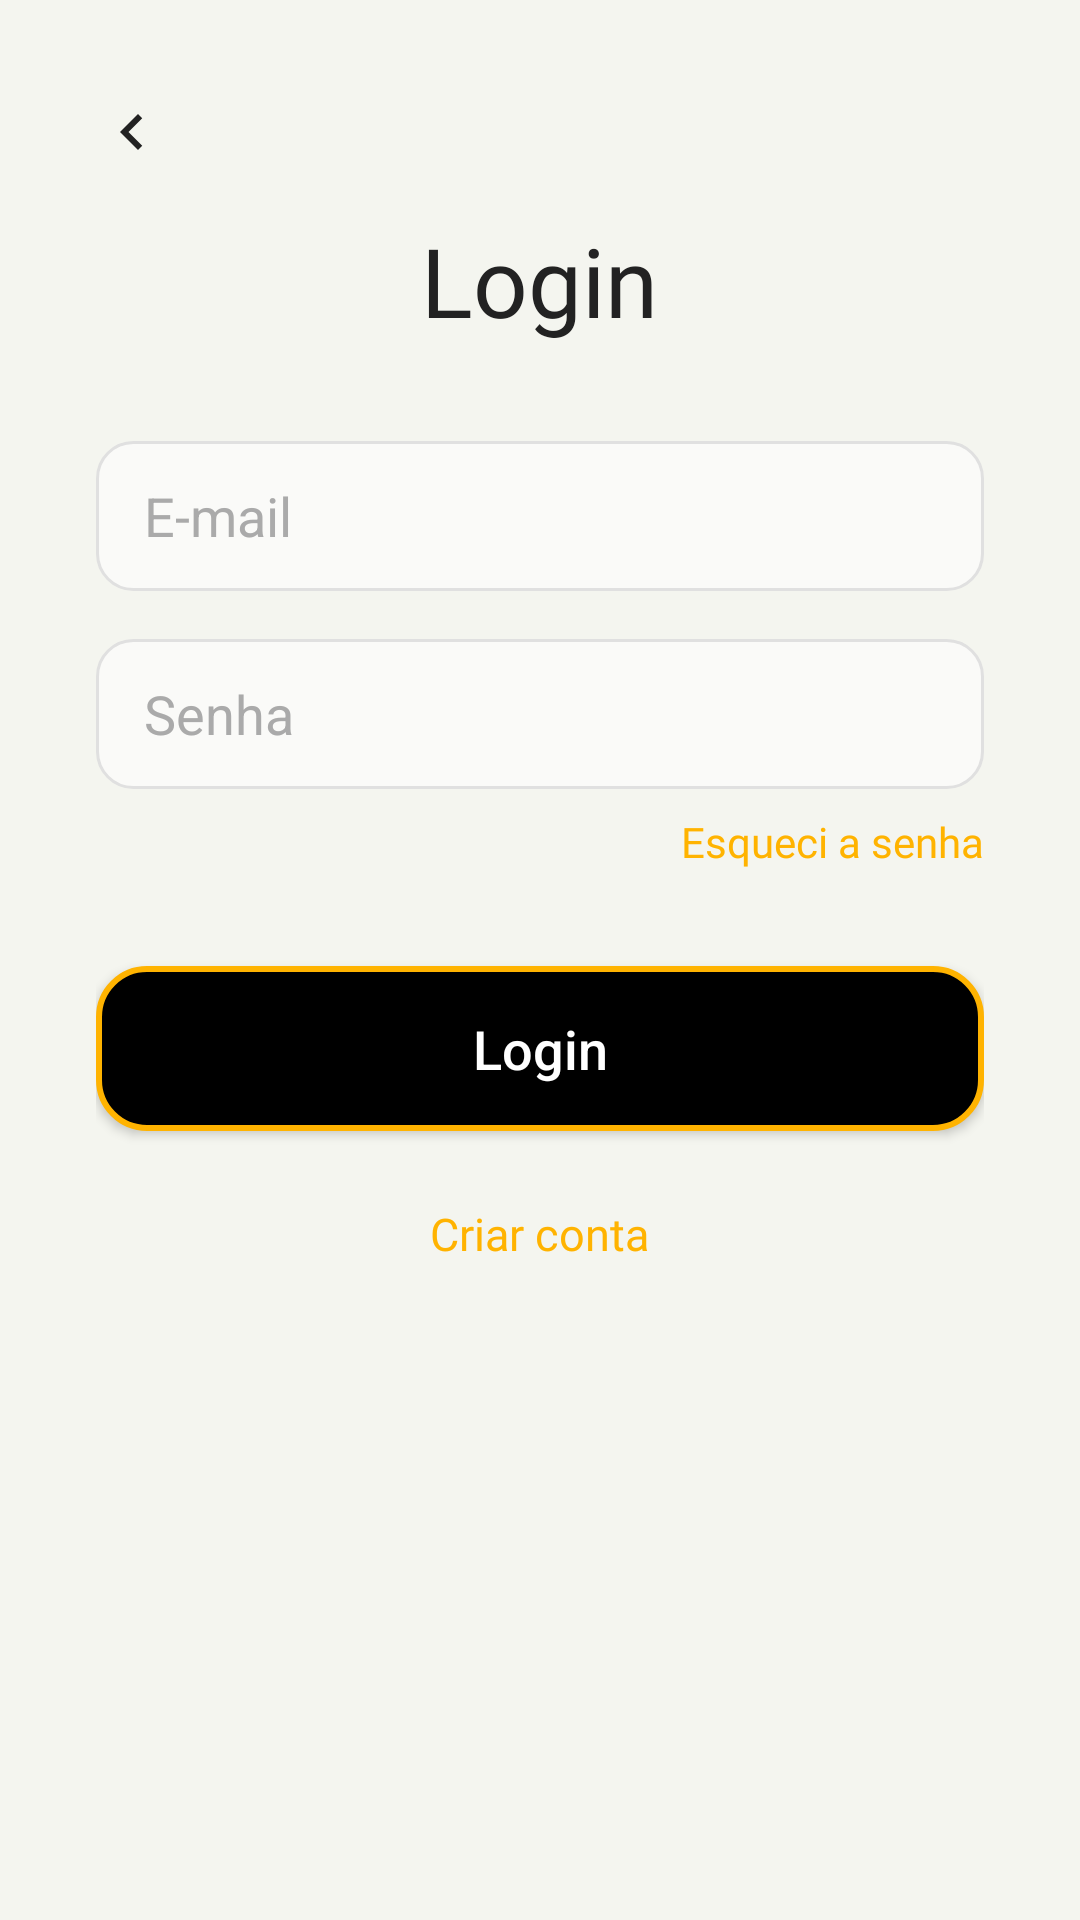

Where to tap for icons on this 1080px x 1920px app screen, as [x,y]:
Voltar: [131,132]
